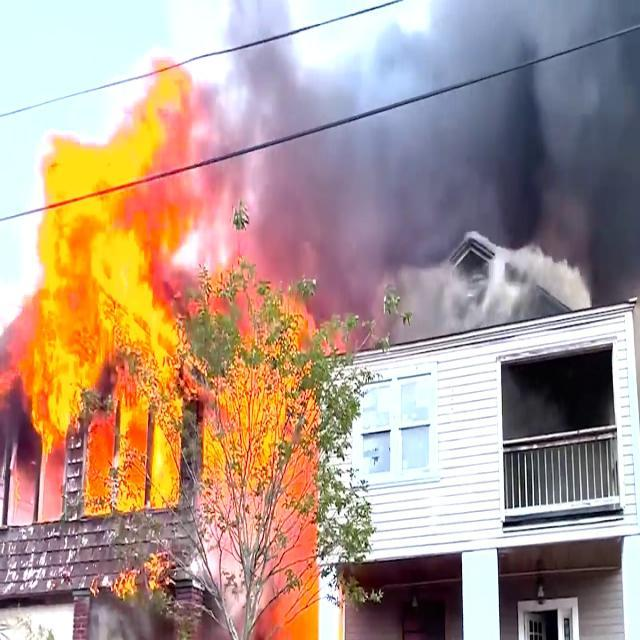Fire: (28, 69, 178, 498), (198, 282, 322, 640)
Smoke: (213, 0, 640, 273)
